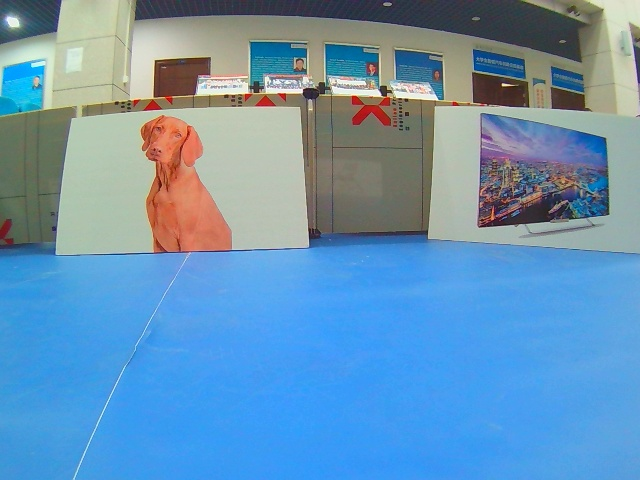pet: (53, 107, 311, 260)
tv: (427, 104, 640, 256)
